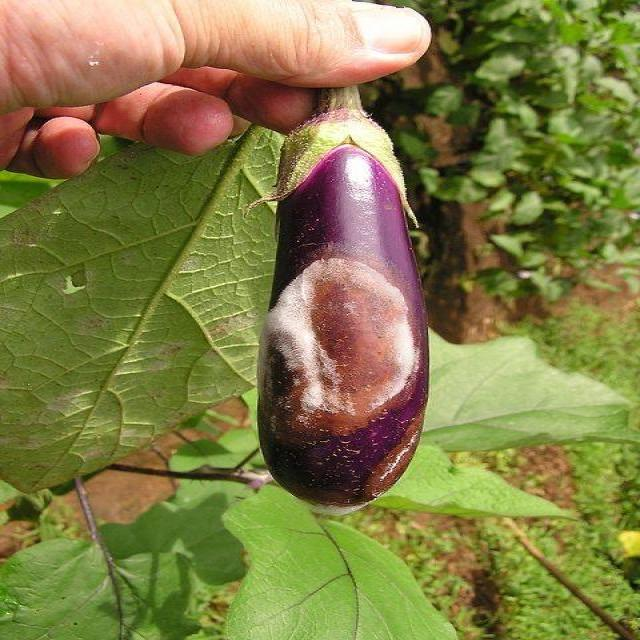eggplant: (245, 80, 430, 519)
